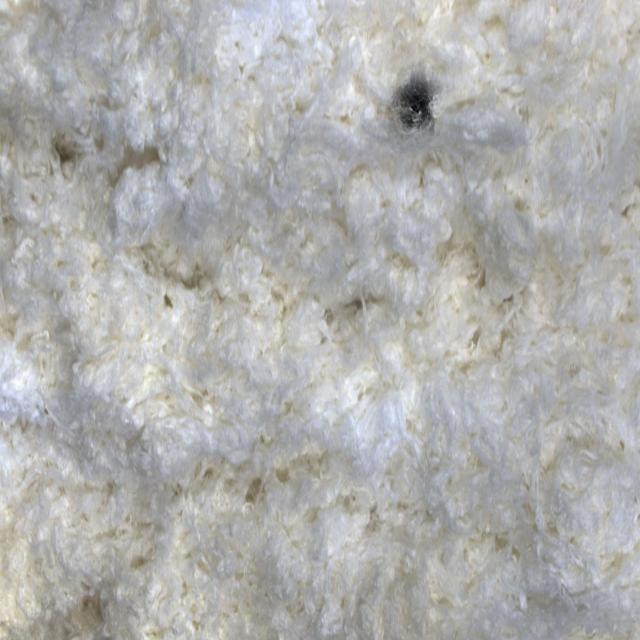dust: (377, 38, 462, 173)
